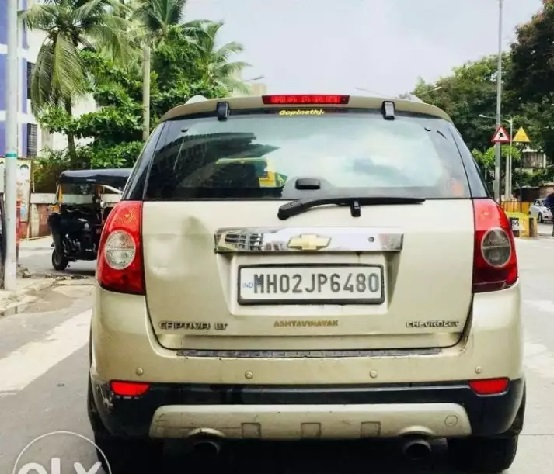licenseplate: (237, 262, 387, 307)
